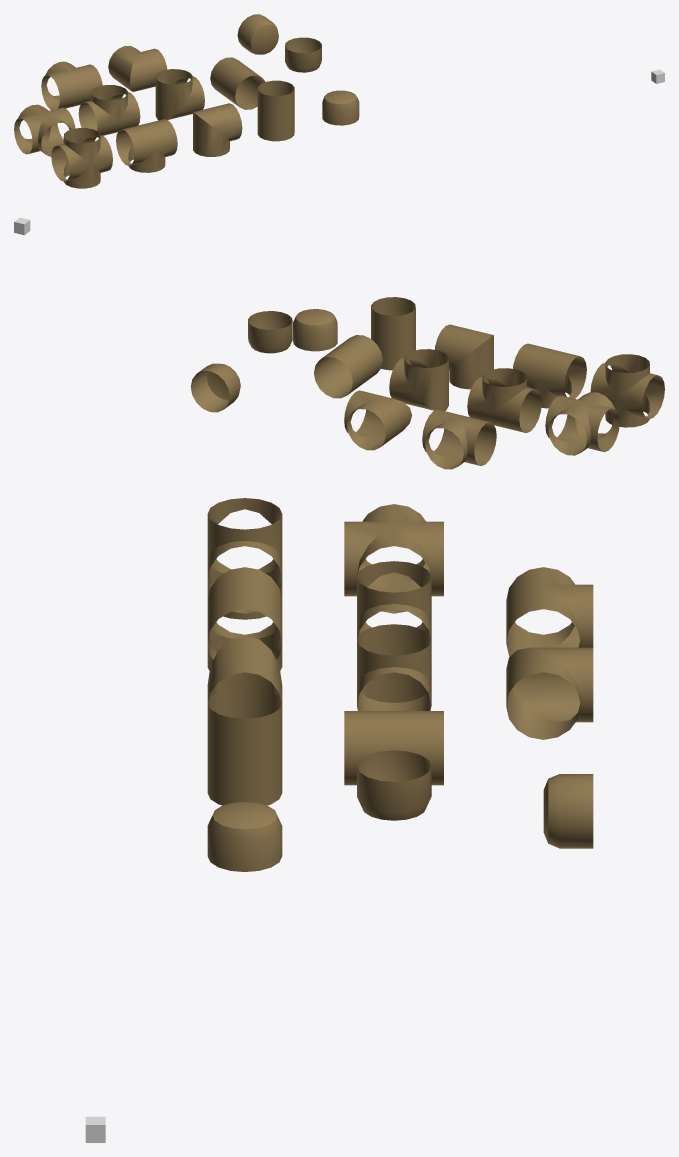
The model's file is pipes.fbx.
The picture shows the model from 3 angles, top to bottom: view 1: azimuth 30°, elevation 25°; view 2: azimuth 150°, elevation 25°; view 3: azimuth 270°, elevation 25°; orthographic projection. The views are drawn at different scales.
Visible parts, largest first — view 1: 2s_2s_0s_0s_2i_2i_2, 2s_2s_0s_0s_0i_2i_2, 2s_1s_0s_0s_2i_0i_2, 0s_0s_0s_0s_2i_2i_1, 2s_0s_0s_0s_0i_2i_4, 2s_0s_0s_0s_2i_0i_4, 2s_2s_0s_2s_0i_0i_4, 2s_2s_2s_2s_0i_0i_1, 2s_0s_0s_2s_0i_0i_4, 0s_0s_2s_2s_0i_0i_2, 0s_0s_0s_2s_0i_0i_4, 0s_0s_0s_0s_0i_2i_1 (+1 smaller); view 2: 2s_2s_0s_0s_2i_2i_2, 2s_1s_0s_0s_2i_0i_2, 2s_2s_2s_2s_0i_0i_1, 2s_2s_0s_2s_0i_0i_4, 2s_0s_0s_0s_2i_0i_4, 2s_2s_0s_0s_0i_2i_2, 0s_0s_2s_2s_0i_0i_2, 2s_0s_0s_2s_0i_0i_4, 2s_0s_0s_0s_0i_2i_4, 0s_0s_0s_0s_2i_2i_1, 0s_0s_0s_2s_0i_0i_4, 0s_0s_0s_0s_0i_2i_1 (+1 smaller); view 3: 0s_0s_0s_0s_2i_2i_1, 2s_0s_0s_2s_0i_0i_4, 2s_0s_0s_0s_2i_0i_4, 2s_2s_2s_2s_0i_0i_1, 2s_2s_0s_2s_0i_0i_4, 0s_0s_2s_2s_0i_0i_2, 0s_0s_0s_0s_0i_2i_1, 0s_0s_0s_0s_2i_0s_1, 2s_2s_0s_0s_0i_2i_2, 2s_2s_0s_0s_2i_2i_2, 0s_0s_0s_2s_0i_0i_4, 2s_1s_0s_0s_2i_0i_2 (+1 smaller).
Boxes of the visible parts, x1,y1,x2,y2 form: 2s_2s_0s_0s_2i_2i_2: (51,128,112,188); 2s_2s_0s_0s_0i_2i_2: (116,119,177,172); 2s_1s_0s_0s_2i_0i_2: (78,85,140,135); 0s_0s_0s_0s_2i_2i_1: (257,80,294,141); 2s_0s_0s_0s_0i_2i_4: (193,103,242,156); 2s_0s_0s_0s_2i_0i_4: (155,69,204,120); 2s_2s_0s_2s_0i_0i_4: (41,61,102,110); 2s_2s_2s_2s_0i_0i_1: (14,104,75,156); 2s_0s_0s_2s_0i_0i_4: (108,46,167,91); 0s_0s_2s_2s_0i_0i_2: (210,57,265,109); 0s_0s_0s_2s_0i_0i_4: (237,14,278,54); 0s_0s_0s_0s_0i_2i_1: (322,90,359,125); 2s_2s_0s_0s_2i_2i_2: (590,354,664,427); 2s_1s_0s_0s_2i_0i_2: (467,368,541,432); 2s_2s_2s_2s_0i_0i_1: (545,392,619,455); 2s_2s_0s_2s_0i_0i_4: (422,409,496,469); 2s_0s_0s_0s_2i_0i_4: (389,349,448,410); 2s_2s_0s_0s_0i_2i_2: (513,343,586,408); 0s_0s_2s_2s_0i_0i_2: (314,335,382,398); 2s_0s_0s_2s_0i_0i_4: (344,390,411,450); 2s_0s_0s_0s_0i_2i_4: (434,324,493,389); 0s_0s_0s_0s_2i_2i_1: (371,297,415,370); 0s_0s_0s_2s_0i_0i_4: (190,363,240,412); 0s_0s_0s_0s_0i_2i_1: (293,309,337,351); 0s_0s_0s_0s_2i_2i_1: (207,687,282,805); 2s_0s_0s_2s_0i_0i_4: (506,647,593,739); 2s_0s_0s_0s_2i_0i_4: (357,624,431,710); 2s_2s_2s_2s_0i_0i_1: (344,504,443,613); 2s_2s_0s_2s_0i_0i_4: (506,567,593,656); 0s_0s_2s_2s_0i_0i_2: (344,711,443,785); 0s_0s_0s_0s_0i_2i_1: (207,801,282,871); 0s_0s_0s_0s_2i_0s_1: (357,750,431,820); 2s_2s_0s_0s_0i_2i_2: (207,567,282,670); 2s_2s_0s_0s_2i_2i_2: (207,498,282,619); 0s_0s_0s_2s_0i_0i_4: (543,774,593,848); 2s_1s_0s_0s_2i_0i_2: (357,561,431,639).
Size of the model in its own units: 2620 by 1020 by 220.
